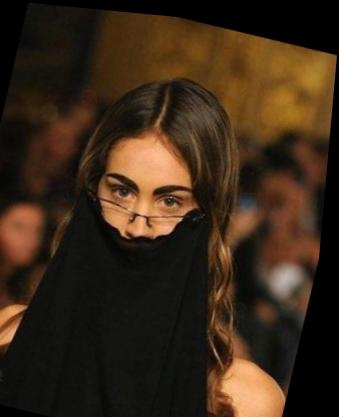WRONG: (74, 146, 215, 288)
